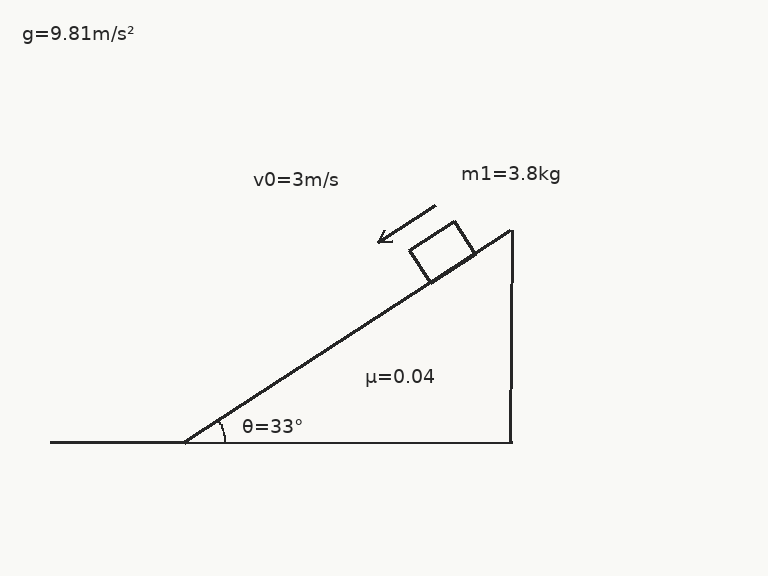block: (407, 219, 477, 285)
ramp: (183, 229, 512, 444)
